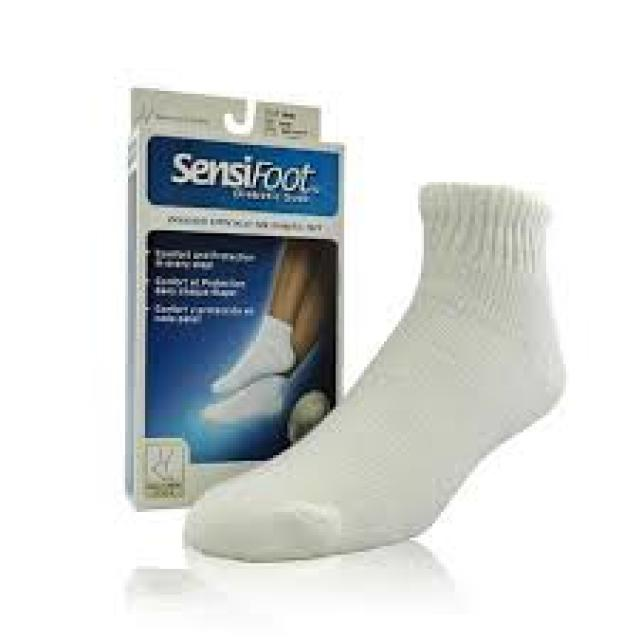sock: (179, 180, 566, 560)
